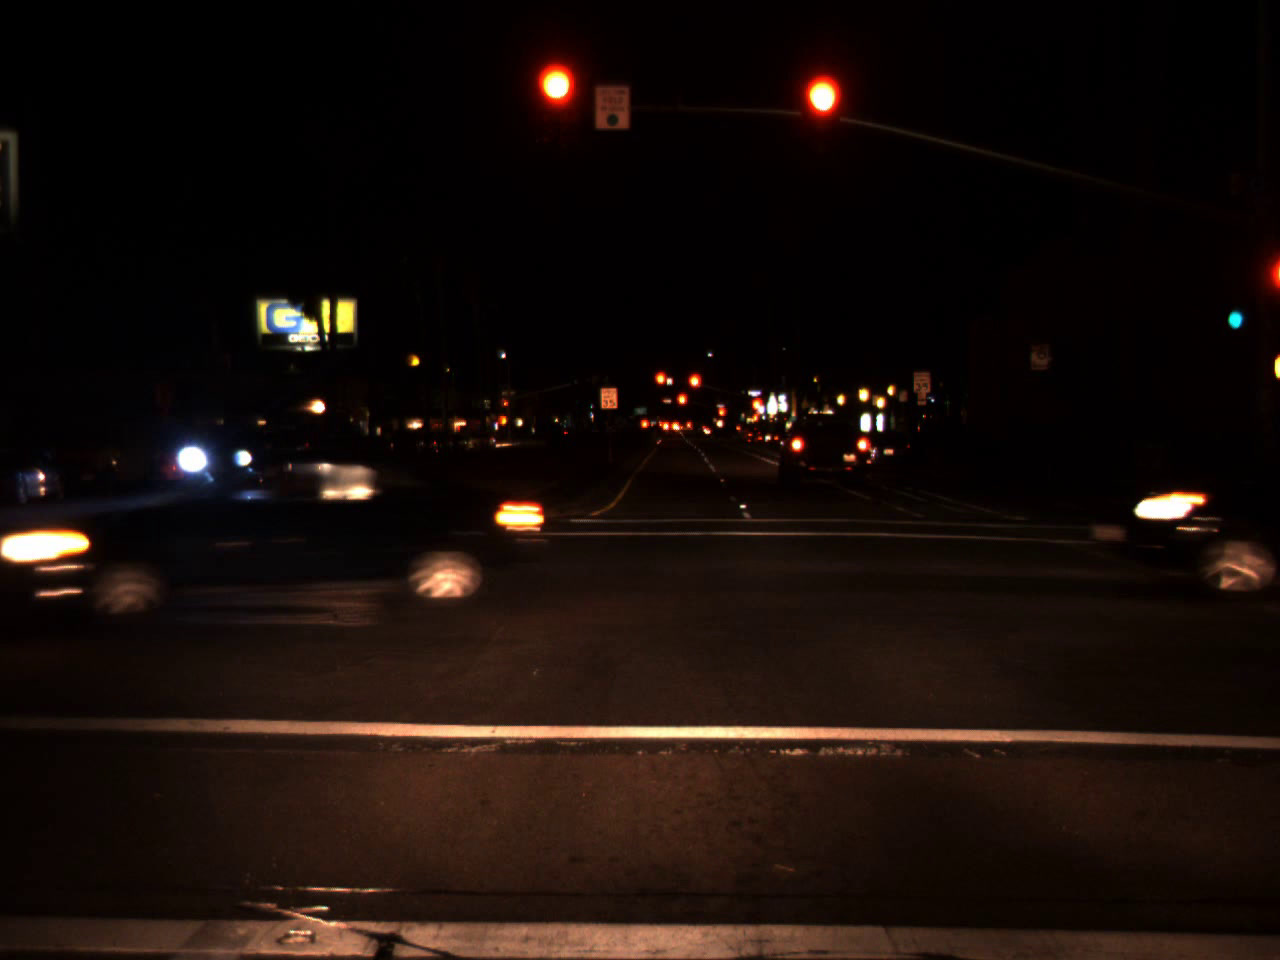stop: (538, 65, 578, 143), (801, 75, 840, 153), (653, 370, 671, 399), (686, 371, 702, 403), (674, 391, 689, 418), (750, 396, 763, 414), (717, 406, 726, 427), (503, 399, 509, 412)
